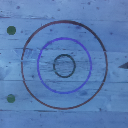Axe Tip: (118, 66, 128, 69)
